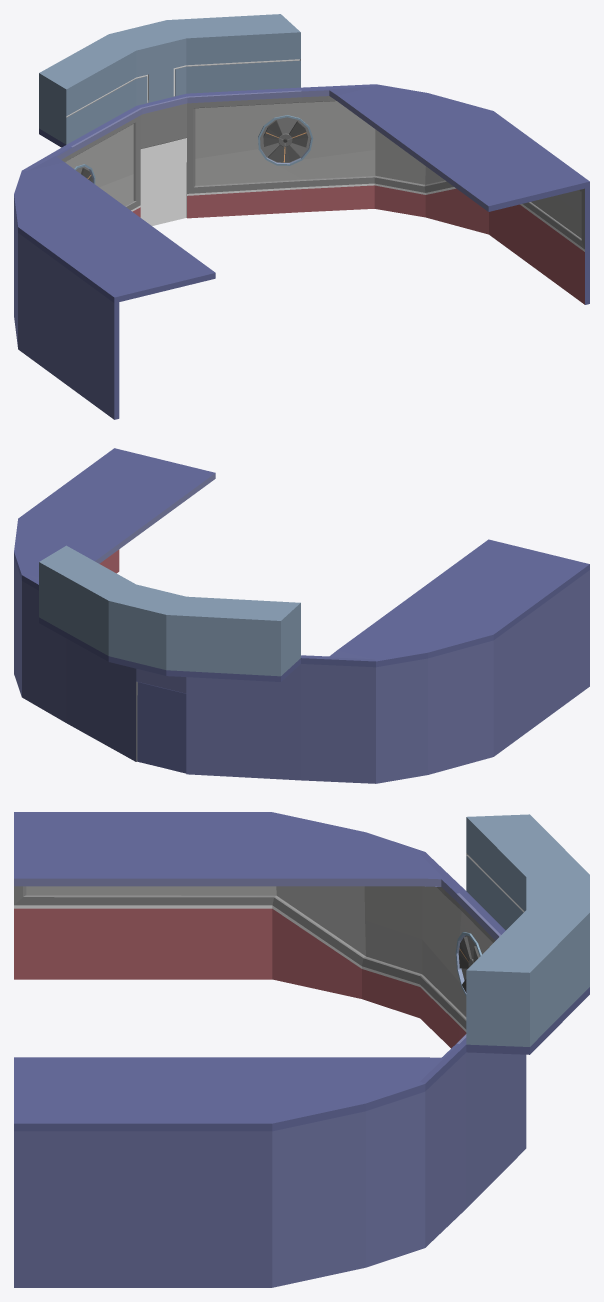
File: 0_1_Wall_6.fbx
3 renders of one model, top to bottom at view 1: azimuth 30°, elevation 25°; view 2: azimuth 150°, elevation 25°; view 3: azimuth 270°, elevation 25°, orthographic. The views are drawn at different scales.
Parts seen in each view (by area): view 1: 0_1_Wall_6, Ventiel_RIGHT.001; view 2: 0_1_Wall_6; view 3: 0_1_Wall_6.
Boxes of the visible parts, box(x1,y1,x2,y2) form: 0_1_Wall_6: box(14, 14, 589, 419); Ventiel_RIGHT.001: box(263, 120, 308, 162); 0_1_Wall_6: box(14, 448, 589, 783); 0_1_Wall_6: box(14, 812, 589, 1287).
Size of the model in its own units: 3683 by 1315 by 2878.
